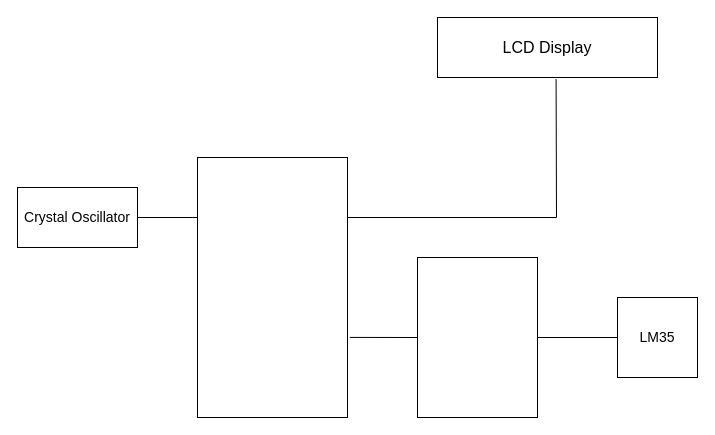
Image size: 715x435. Some labels were removed from this diagram. Here are the shapes that lost their labels. From the top down, the centre of each, then its label:
At point (272, 287): "8051 Microcontroller".
At point (477, 337): "ADC Converter".
